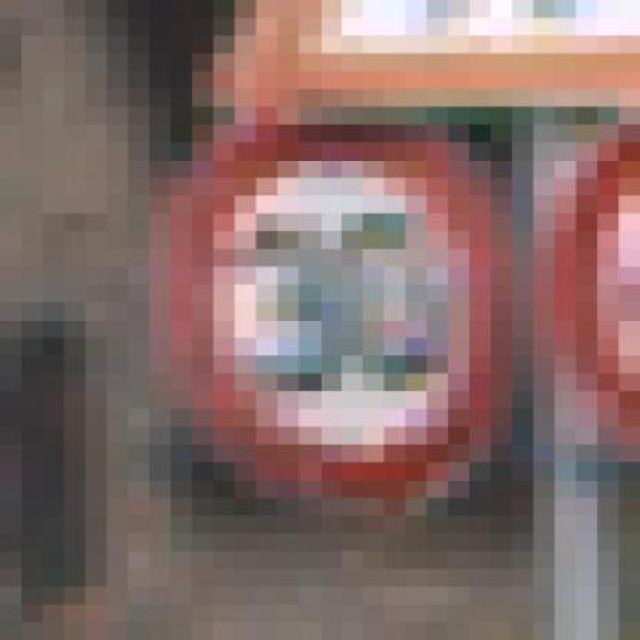Speed Limit 30 KMPh: (106, 142, 534, 516)
